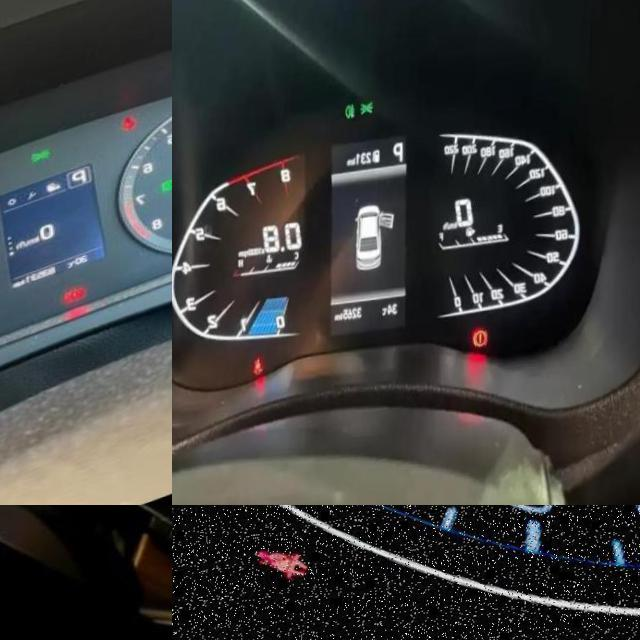Seat Belt: (254, 361, 267, 380)
